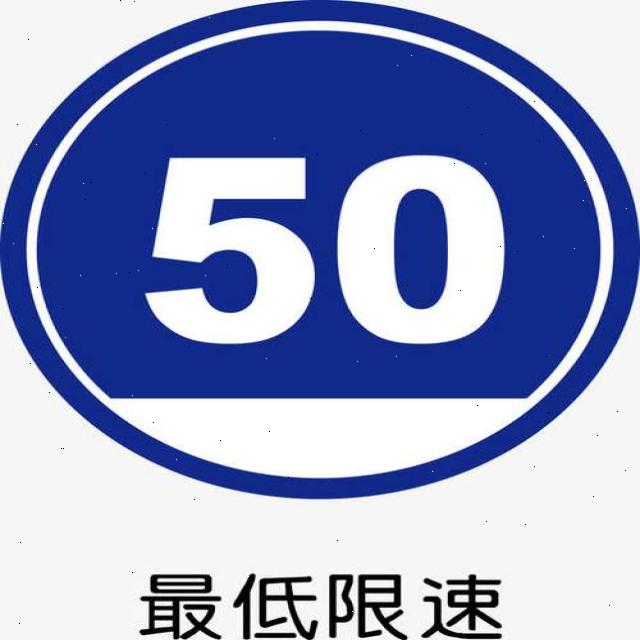speed limit 50: (0, 2, 640, 501)
